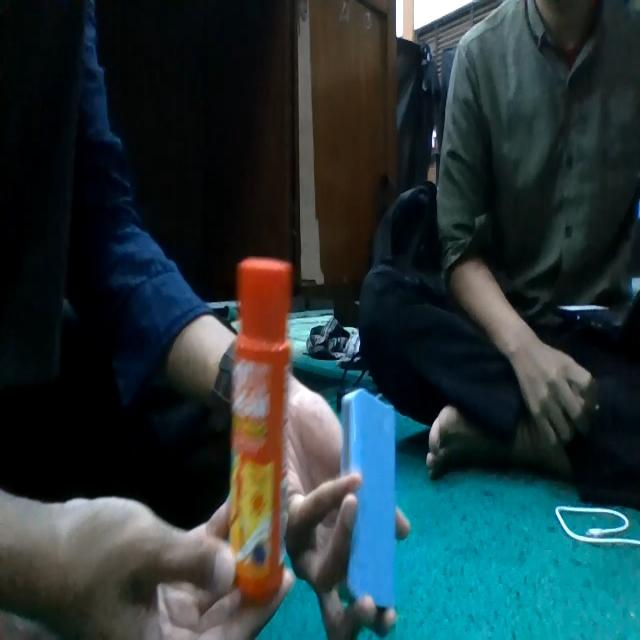Boncabe: (228, 258, 290, 603)
Powerbank: (340, 388, 398, 608)
